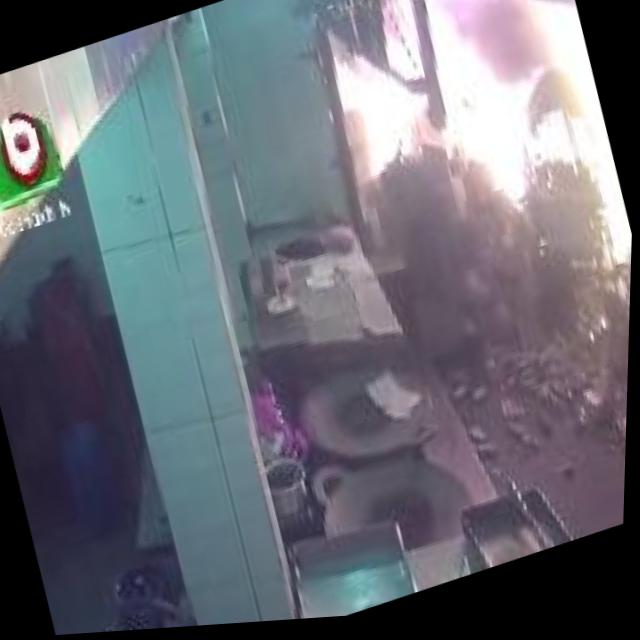fire: (321, 0, 563, 263), (447, 0, 640, 306)
